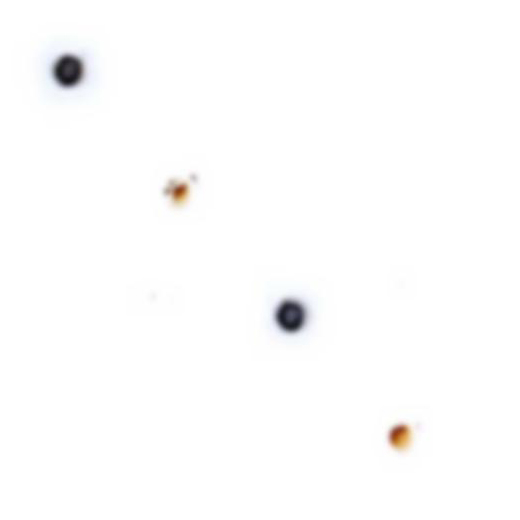cancer: (256, 274, 336, 345), (33, 39, 107, 105)
normal: (145, 144, 219, 224), (372, 400, 440, 468)
